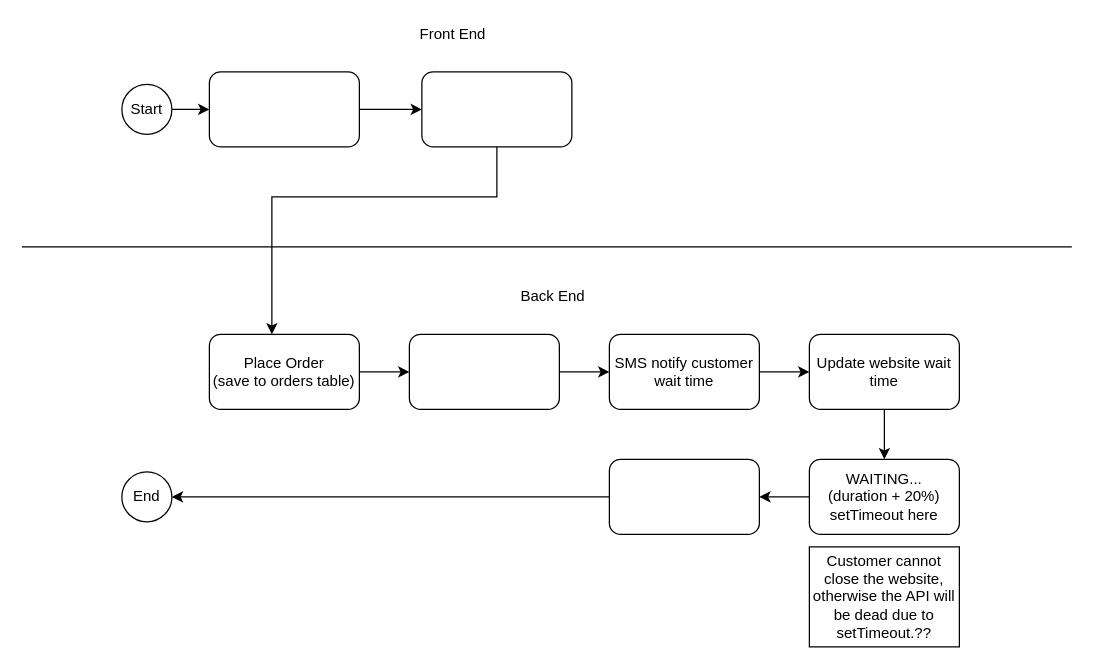
This 1095x669 diagram has some shape labels left out. The centre of each missing label's shape, as x and y in pixels:
front end do $.post to API with order details in JSON format in body: (496,109)
SMS notify customer order is ready for pickup: (683,496)
SMS notify restaurant new order: (483,371)
User click "place order" button: (283,109)
